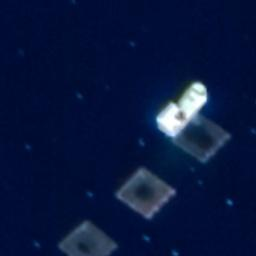square_cover: (169, 110, 234, 166), (113, 164, 177, 220), (55, 216, 119, 256)
